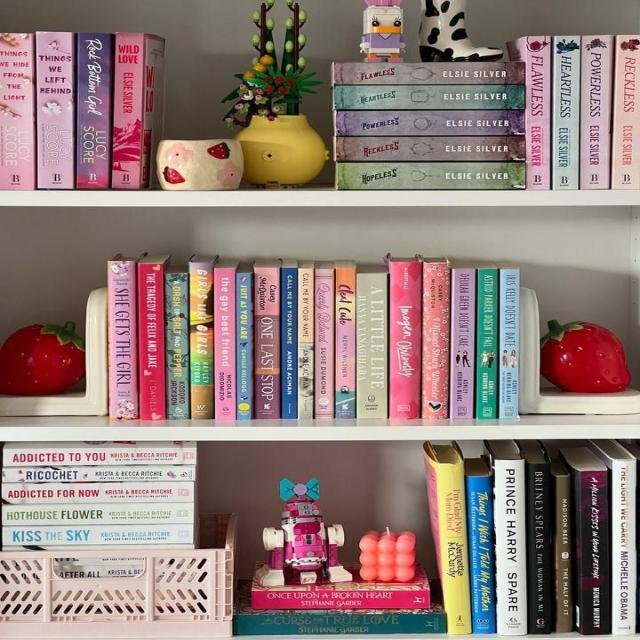book: (423, 441, 471, 634), (590, 441, 636, 634), (561, 446, 608, 634), (111, 32, 164, 189), (36, 32, 75, 189), (76, 33, 114, 189), (492, 460, 526, 634), (386, 256, 421, 419), (0, 33, 36, 190), (516, 36, 551, 190), (580, 35, 614, 189), (335, 136, 524, 163), (336, 110, 524, 137), (108, 256, 139, 419), (356, 262, 388, 419), (138, 256, 168, 420), (336, 163, 524, 189), (420, 259, 450, 419), (333, 85, 524, 110), (466, 476, 496, 632), (4, 442, 196, 466), (333, 63, 524, 87), (3, 523, 193, 547), (551, 36, 580, 189), (527, 463, 553, 632), (3, 481, 194, 504), (3, 502, 193, 525), (611, 34, 639, 189), (254, 260, 281, 418), (188, 256, 214, 418), (450, 266, 476, 418), (165, 267, 189, 419), (3, 465, 194, 484), (552, 455, 572, 632), (214, 262, 236, 420), (335, 261, 356, 418), (315, 262, 334, 418), (479, 270, 498, 420), (236, 262, 253, 420), (280, 261, 297, 419), (502, 271, 519, 418), (299, 262, 314, 418)
candle: (359, 529, 415, 583)
